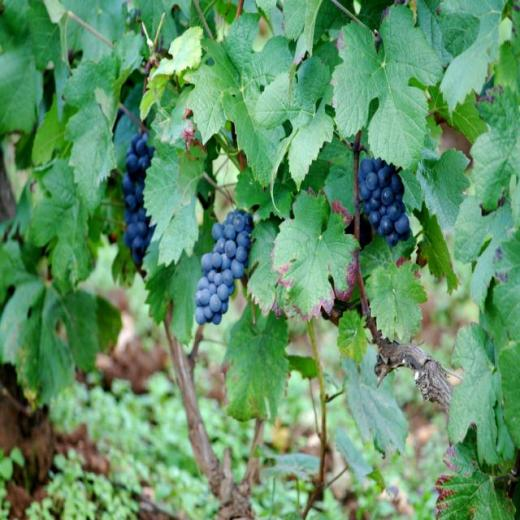Orange: (195, 207, 253, 325), (356, 154, 409, 248), (122, 132, 153, 266)
